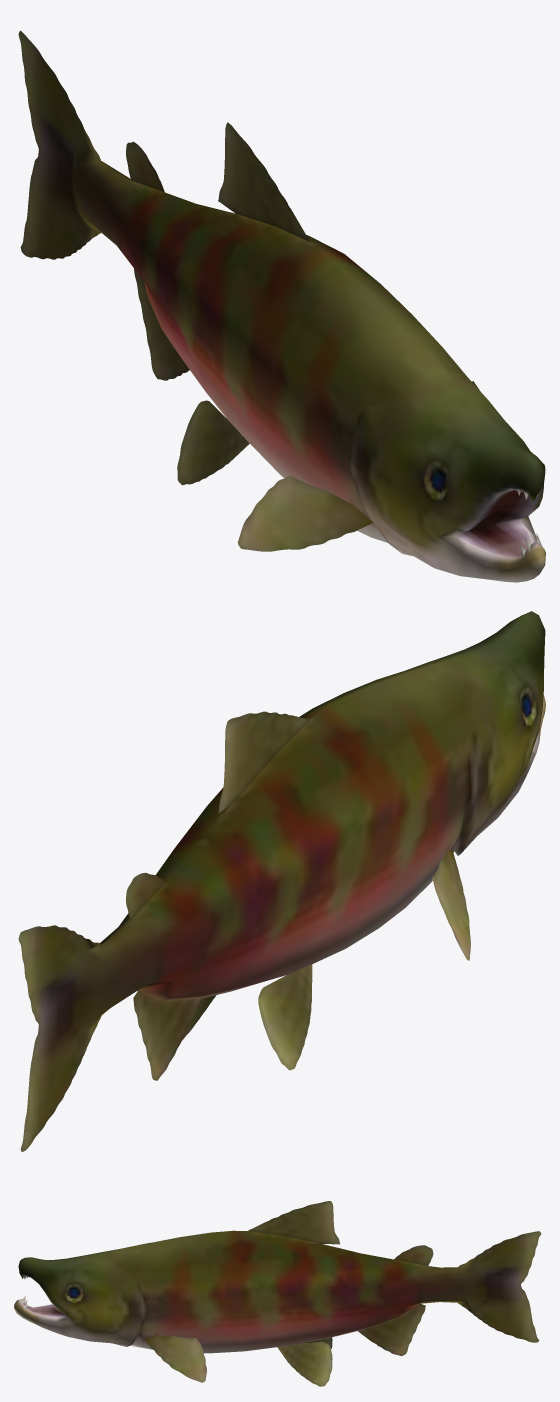
The model's file is salmon.glb.
The picture shows the model from 3 angles, top to bottom: view 1: azimuth 30°, elevation 25°; view 2: azimuth 150°, elevation 25°; view 3: azimuth 270°, elevation 25°; orthographic projection. The views are drawn at different scales.
Size of the model in its own units: 2.62 by 3.64 by 9.97.
1 material, 1 textured.
